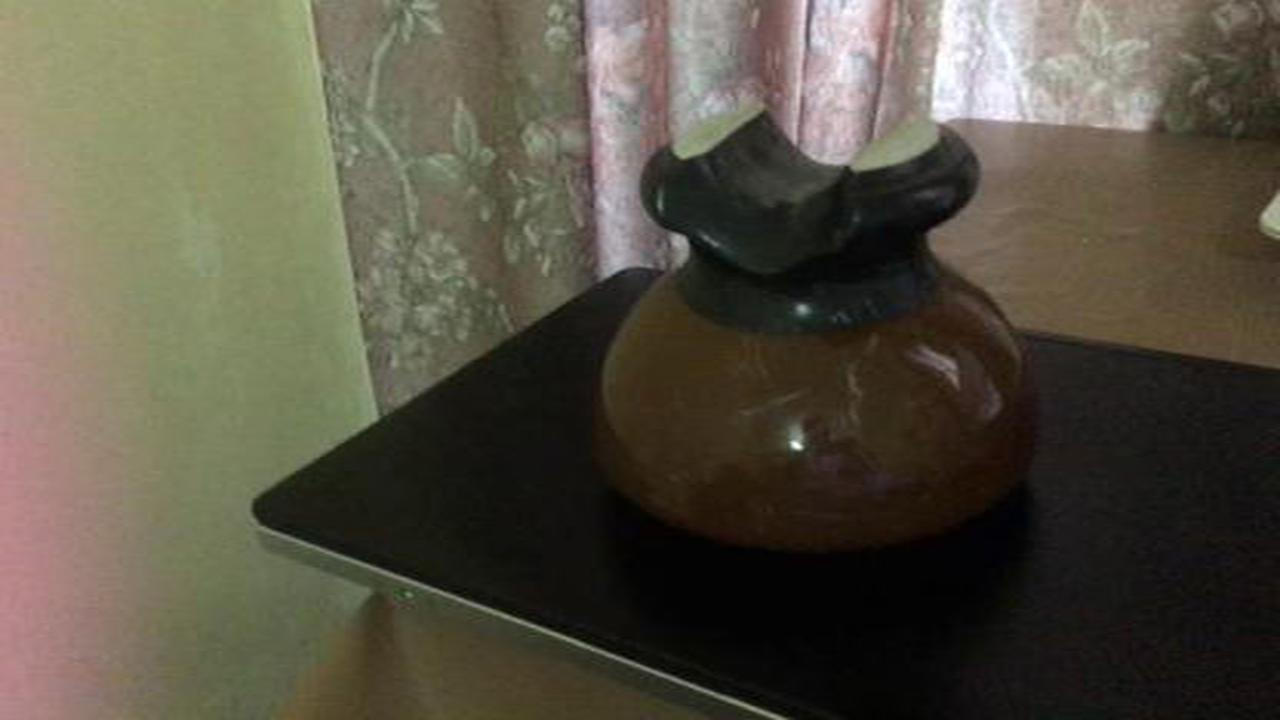insulator_pin: (576, 87, 1071, 572)
